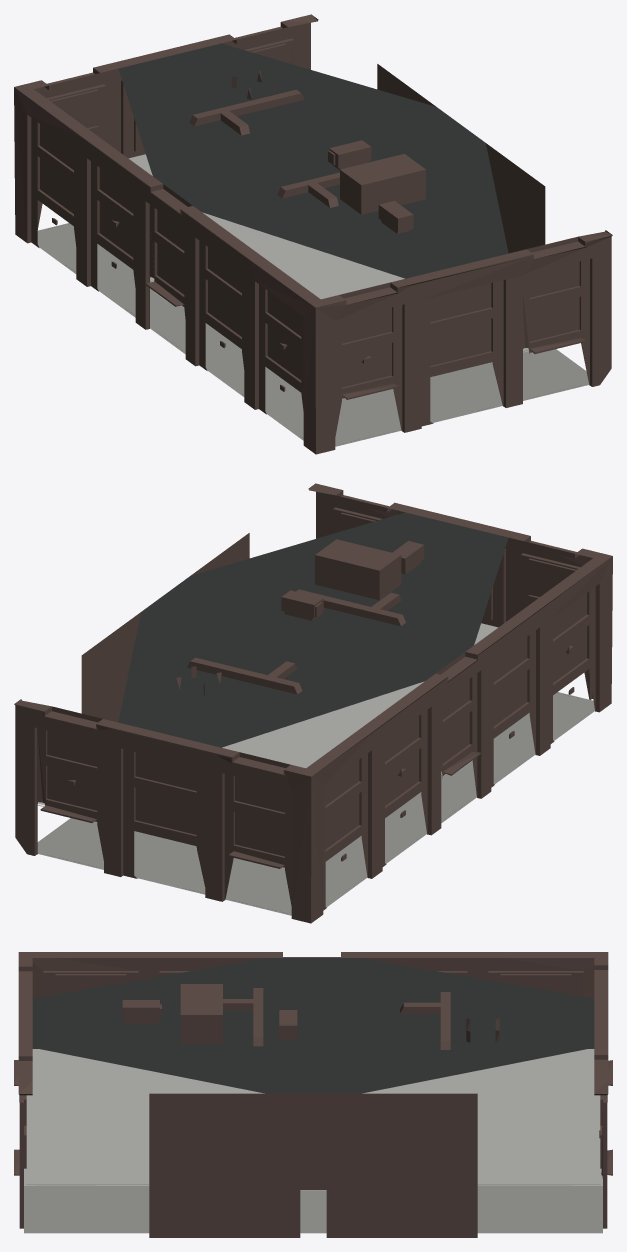
The model's file is ind-building-1.zfix-v14.lod2.glb.
3 views of the same model, one above another, from view 1: azimuth 30°, elevation 25°; view 2: azimuth 150°, elevation 25°; view 3: azimuth 270°, elevation 25° (orthographic). The views are drawn at different scales.
Parts seen in each view (by area): view 1: Industrial_Building_1_Industrial_Facade_Flr_1_0; view 2: Industrial_Building_1_Industrial_Facade_Flr_1_0; view 3: Industrial_Building_1_Industrial_Facade_Flr_1_0.
Part boxes in pixels (left/top/right/bottom): Industrial_Building_1_Industrial_Facade_Flr_1_0: left=14, top=14, right=612, bottom=454; Industrial_Building_1_Industrial_Facade_Flr_1_0: left=14, top=483, right=612, bottom=923; Industrial_Building_1_Industrial_Facade_Flr_1_0: left=14, top=952, right=612, bottom=1237.
Bounding box in the file's own units: 27.02 × 15.22 × 47.54.
